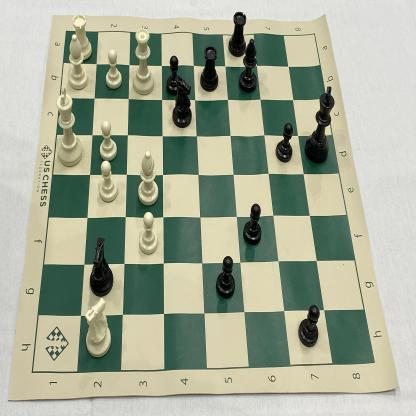black-bishop: (238, 35, 263, 98)
black-king: (302, 82, 337, 169)
black-knight: (82, 231, 119, 300), (170, 77, 196, 131)
black-pawn: (294, 295, 322, 351), (213, 253, 240, 304), (239, 201, 264, 251), (163, 51, 185, 97), (274, 120, 295, 167)
black-rook: (225, 4, 251, 59), (198, 42, 224, 95)
white-bishop: (64, 32, 91, 95), (137, 146, 162, 208)
white-king: (54, 86, 86, 170)
white-knight: (81, 294, 114, 362)
white-pawn: (96, 158, 123, 205), (103, 45, 125, 94), (137, 210, 159, 259), (97, 118, 118, 161)
white-queen: (129, 20, 158, 100)
white-rook: (69, 11, 95, 64)
